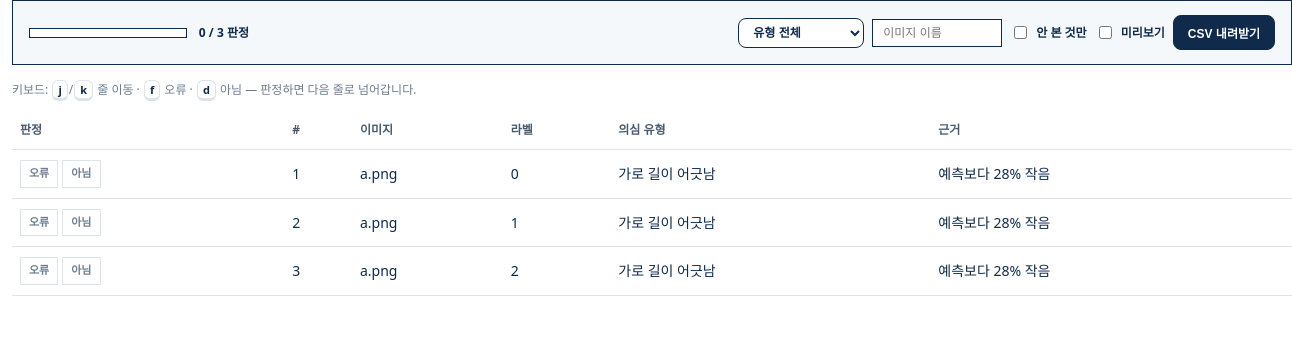
Test case: R6 흐름 전체 › 열기 → 연속 판정 → 저장 실패 → 재시도 → 새로고침 → CSV
Click the 1st button "오류": point(39, 174) x1=20 y1=160 x2=58 y2=188
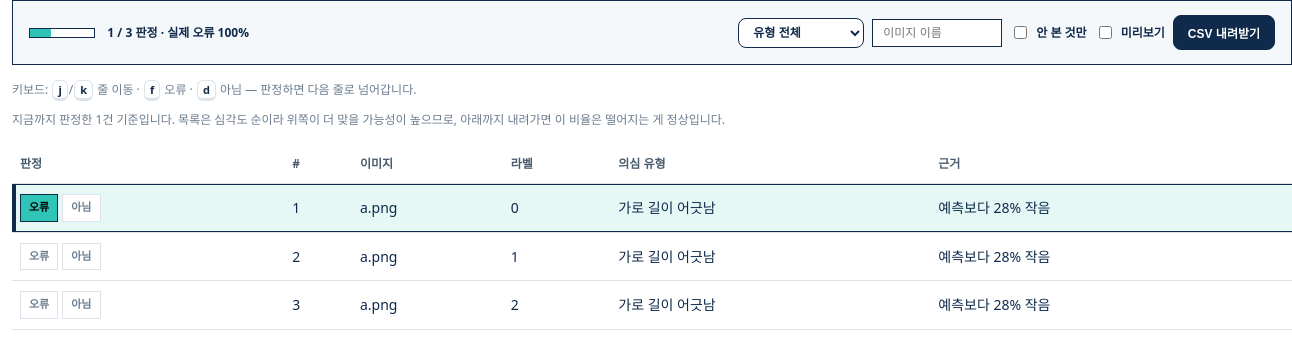
Click the 2nd button "오류": point(39, 256) x1=20 y1=243 x2=58 y2=270
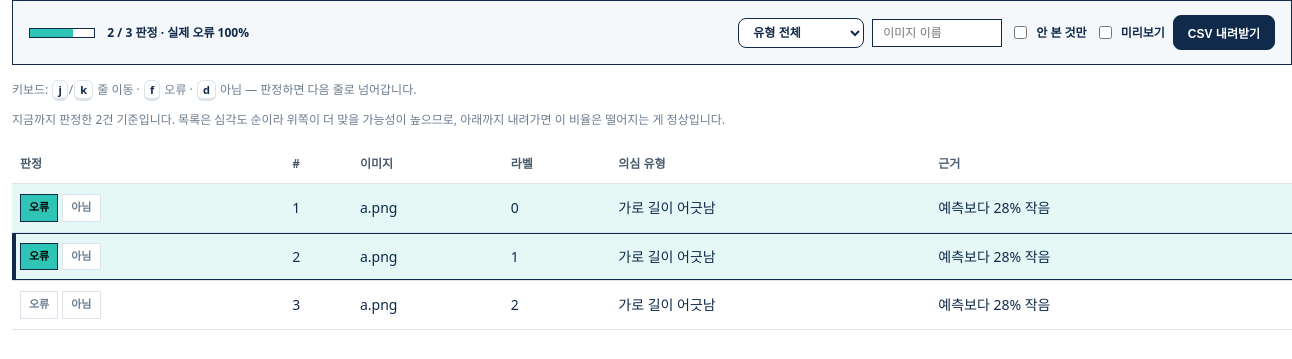
Click the 3rd button "오류": point(39, 305) x1=20 y1=291 x2=58 y2=319
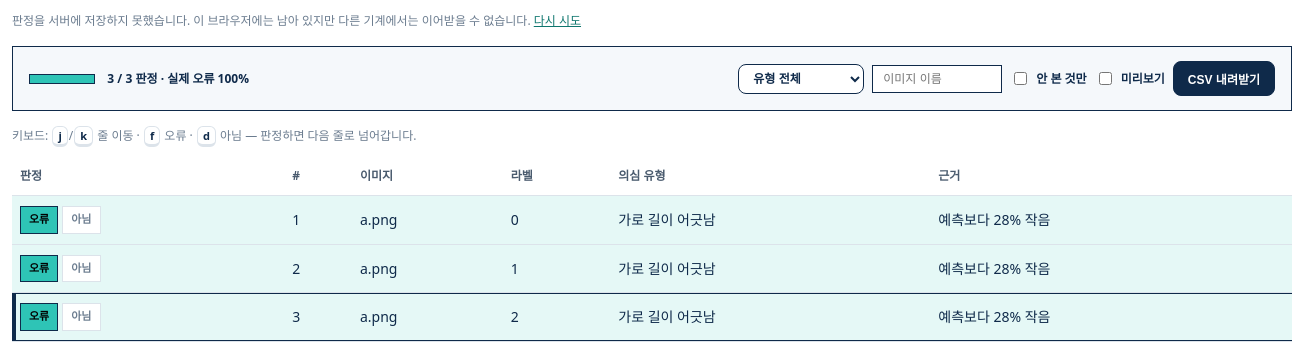
Check: the text "판정을 서버에 저장하지 못했습니다. 이 브라우저에는 남아 있지만 다른 기계에서는 이어받을 수 없습니다. 다시 시도" is shown, box x1=12 y1=12 x2=581 y2=30
Click the button "다시 시도": point(557, 21) x1=534 y1=12 x2=581 y2=30
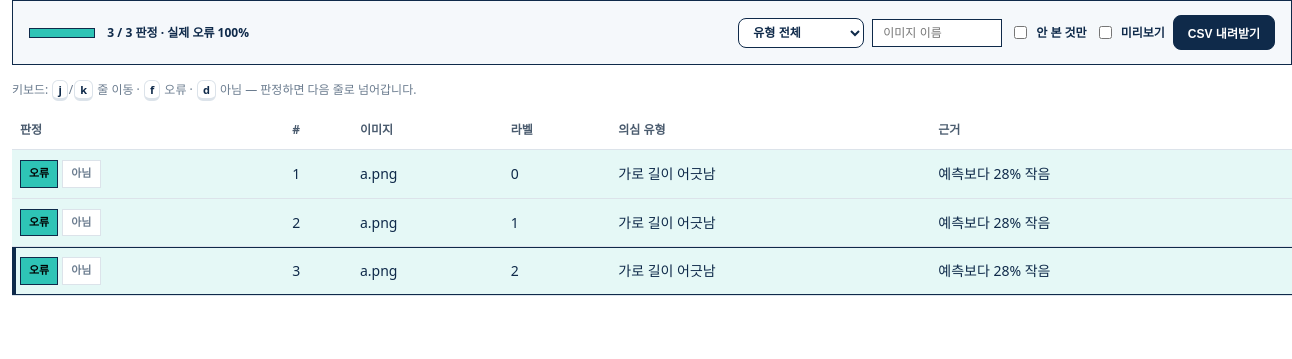
Check: the text "서버에 저장하지 못했습니다" is gone
